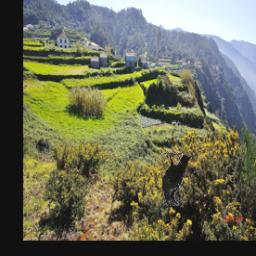Crow: (161, 150, 190, 207)
